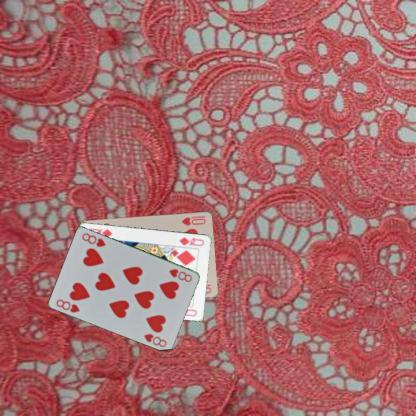10h: (179, 214, 207, 226)
8h: (54, 296, 81, 314), (166, 266, 194, 283)
Qd: (177, 235, 205, 247)
